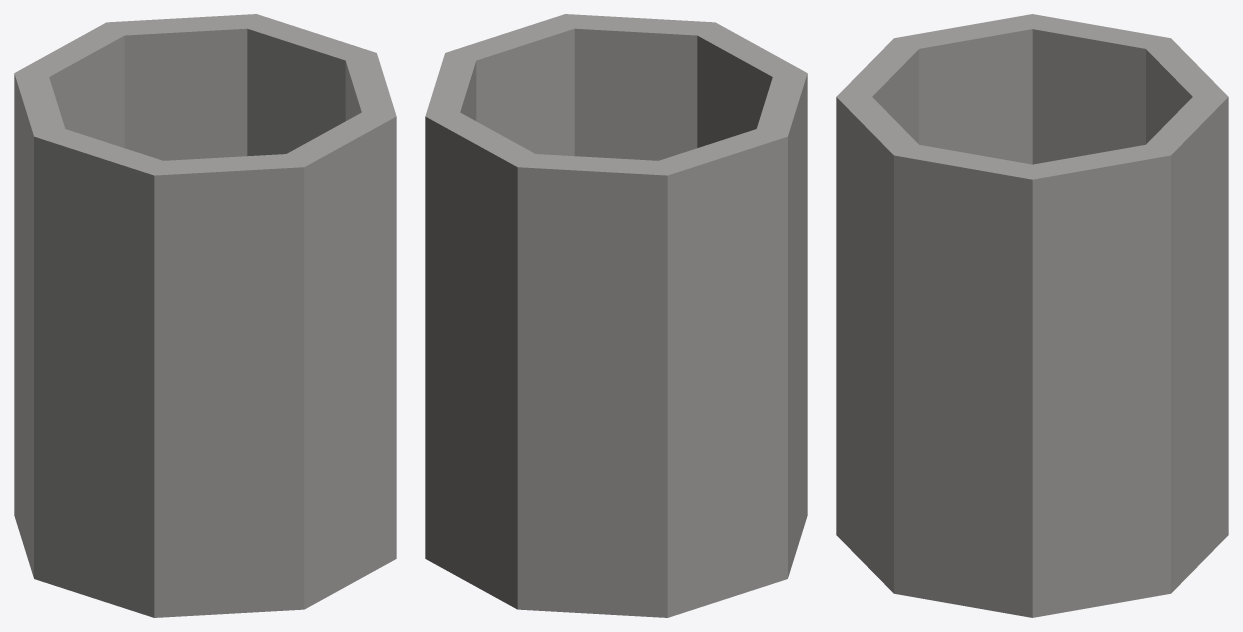
File: verres.obj
The picture shows the model from 3 angles, left to right: view 1: azimuth 30°, elevation 25°; view 2: azimuth 150°, elevation 25°; view 3: azimuth 270°, elevation 25°; orthographic projection.
Parts seen in each view (by area): view 1: SM_Prop_Cup_357_SM_Prop_Cup_01.002; view 2: SM_Prop_Cup_357_SM_Prop_Cup_01.002; view 3: SM_Prop_Cup_357_SM_Prop_Cup_01.002.
Boxes of the visible parts, x1=… form: SM_Prop_Cup_357_SM_Prop_Cup_01.002: x1=14, y1=14, x2=396, y2=617; SM_Prop_Cup_357_SM_Prop_Cup_01.002: x1=425, y1=14, x2=807, y2=617; SM_Prop_Cup_357_SM_Prop_Cup_01.002: x1=836, y1=14, x2=1228, y2=617.
Size of the model in its own units: 0.1171 by 0.1444 by 0.1171.
